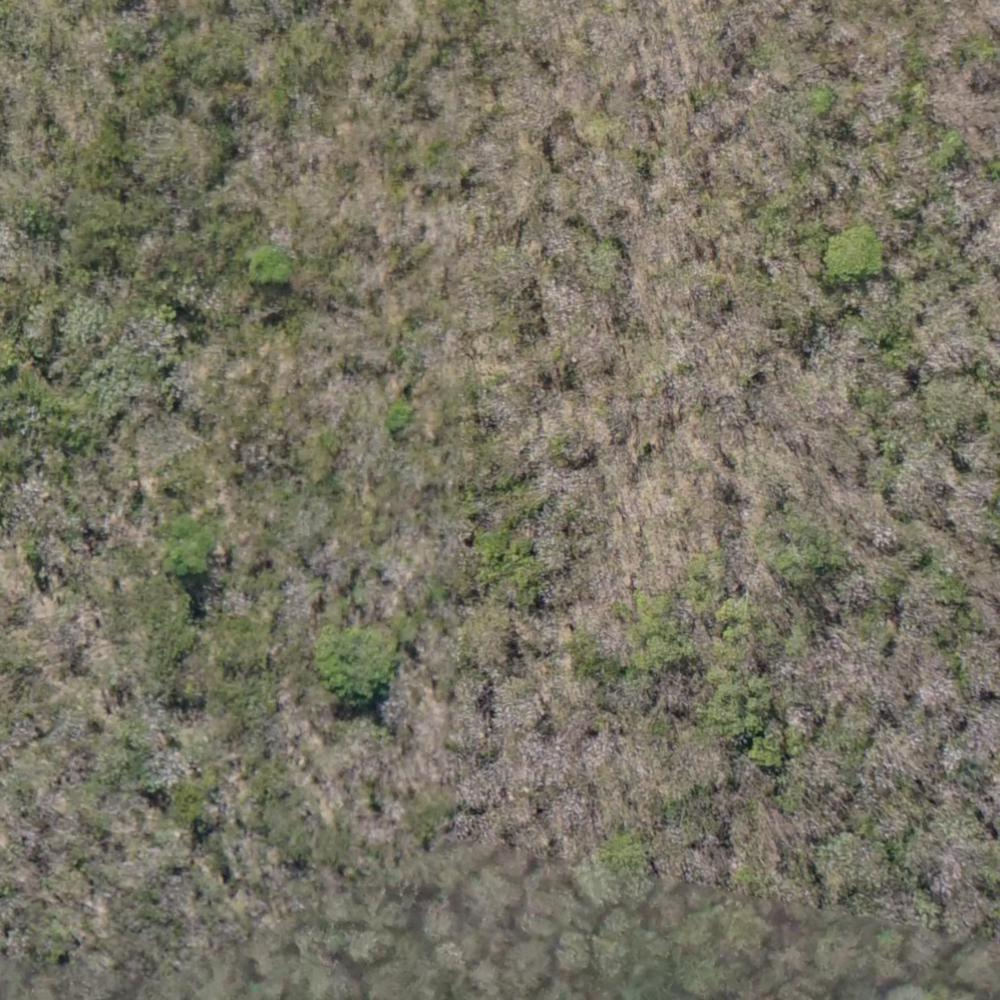tree: (324, 624, 397, 692), (829, 221, 890, 283), (589, 844, 647, 898), (168, 523, 221, 577), (243, 234, 289, 286), (553, 937, 594, 976), (752, 734, 791, 771), (385, 400, 419, 439)
